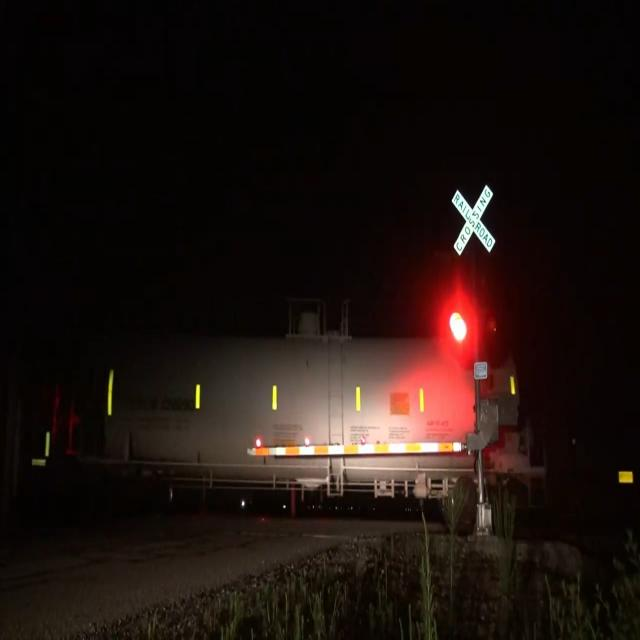tank: (52, 292, 541, 537)
